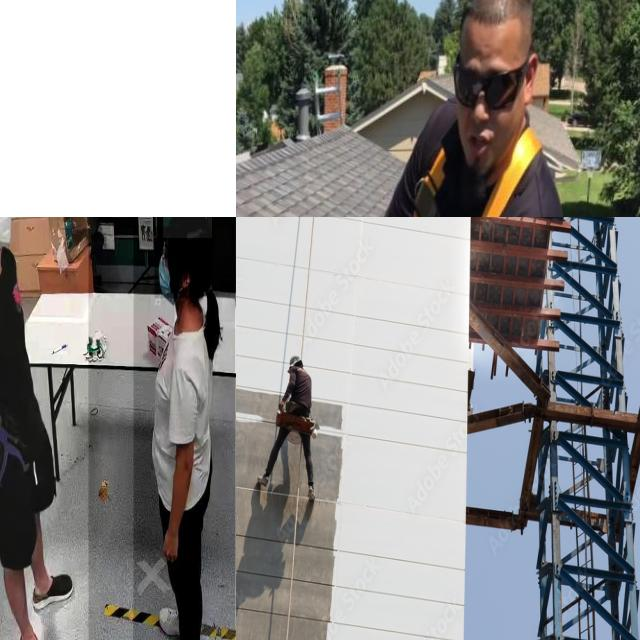Harness: (482, 132, 542, 217), (274, 400, 316, 440)
face_mask: (155, 226, 187, 298)
hand_noglove: (161, 525, 179, 562)
head_nohelmet: (163, 217, 212, 239)
person: (133, 217, 235, 640), (0, 217, 88, 640)
shoes: (31, 565, 78, 612), (154, 597, 199, 640), (15, 623, 58, 640)
